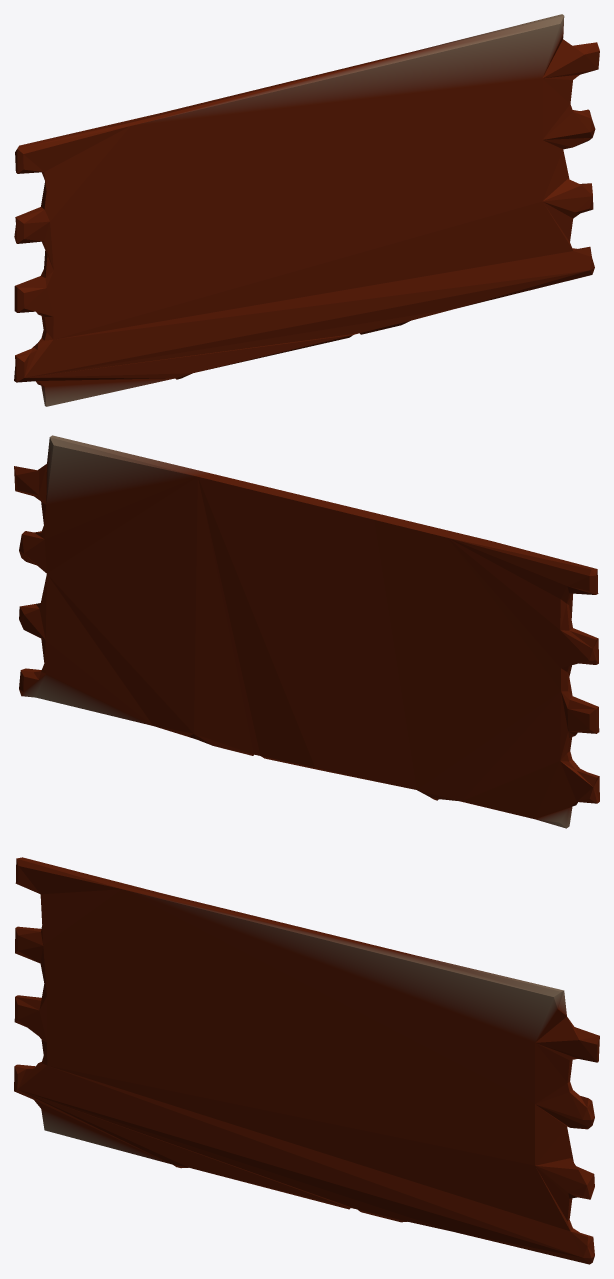
The model's file is Brickwall.glb.
The picture shows the model from 3 angles, top to bottom: view 1: azimuth 30°, elevation 25°; view 2: azimuth 150°, elevation 25°; view 3: azimuth 330°, elevation 25°; orthographic projection.
Visible parts, largest first — view 1: Root; view 2: Root; view 3: Root.
Part boxes in pixels (box(x1,y1,x2,y2)): Root: box(14, 14, 599, 406); Root: box(14, 435, 599, 828); Root: box(14, 857, 599, 1264).
Size of the model in its own units: 2.56 by 1.13 by 0.0639.
